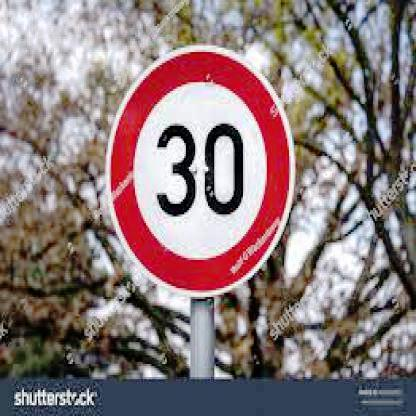Speed Limit -30-: (106, 41, 297, 299)
